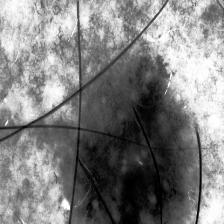Benign Marking or Mole: (72, 52, 186, 224)
